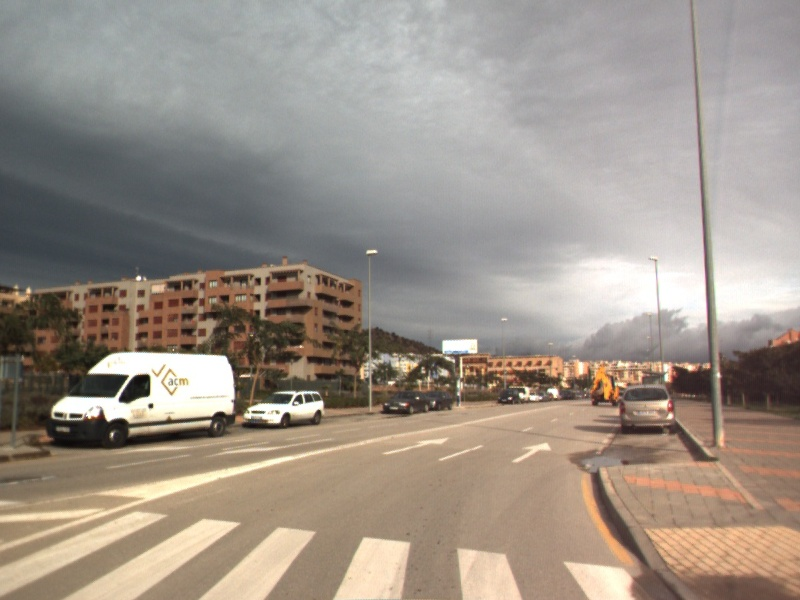STRAIGHT: (380, 436, 451, 456), (510, 441, 553, 464)
